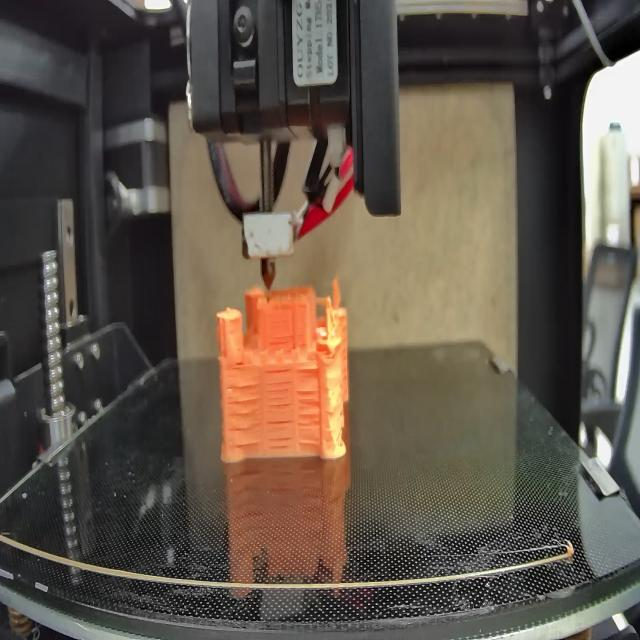cracks: (226, 380, 262, 447), (298, 388, 320, 445), (267, 369, 293, 410), (265, 416, 294, 449), (232, 356, 249, 369), (298, 365, 320, 374)
